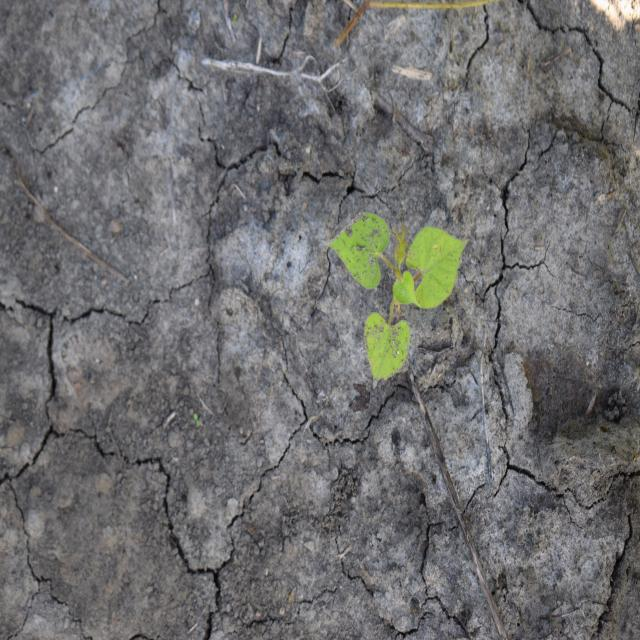MorningGlory: (319, 208, 471, 391)
